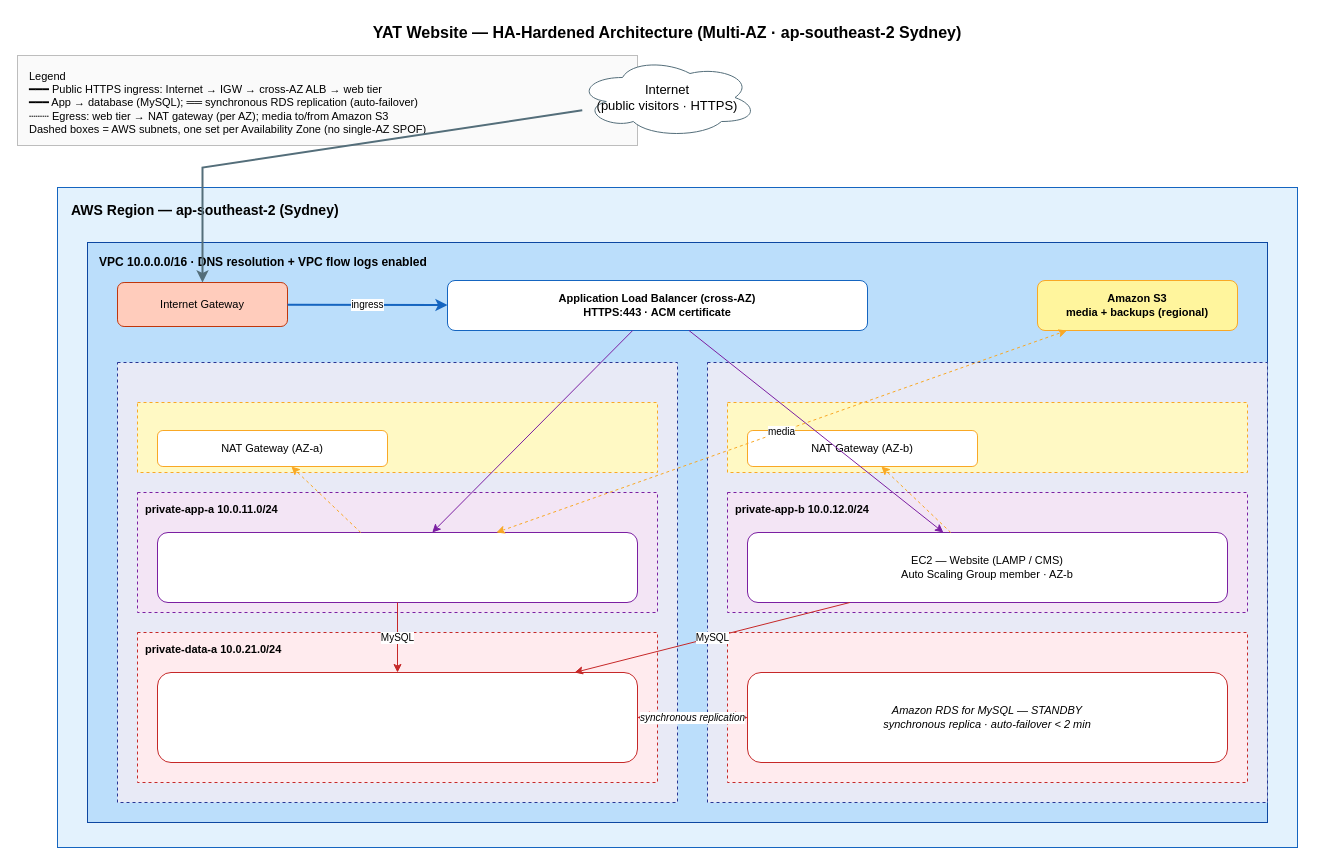
The diagram is 1335 pixels wide and 865 high, and some of its shapes have lost their labels. Each missing label, with the box of its shape:
Amazon RDS for MySQL — PRIMARY Multi-AZ deployment: (156, 672, 638, 762)
Availability Zone — ap-southeast-2a: (116, 362, 678, 802)
Availability Zone — ap-southeast-2b: (706, 362, 1268, 802)
EC2 — Website (LAMP / CMS) Auto Scaling Group member · AZ-a: (156, 532, 638, 602)
private-data-b 10.0.22.0/24: (726, 632, 1248, 782)
public-web-a 10.0.1.0/24: (136, 402, 658, 472)
public-web-b 10.0.2.0/24: (726, 402, 1248, 472)
